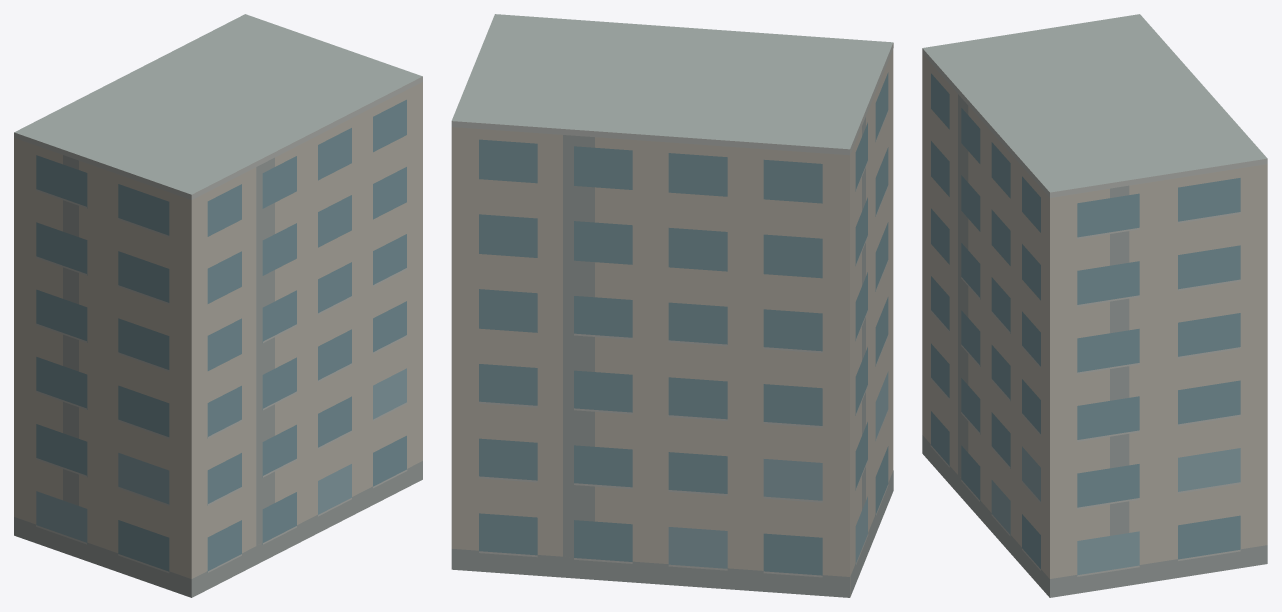
Rendered from survey-upis-32862036.glb.
3 views of the same model, side by side, from view 1: azimuth 30°, elevation 25°; view 2: azimuth 150°, elevation 25°; view 3: azimuth 270°, elevation 25° (orthographic). The views are drawn at different scales.
Parts seen in each view (by area): view 1: survey-upis-32862036.tmp; view 2: survey-upis-32862036.tmp; view 3: survey-upis-32862036.tmp.
Part boxes in pixels (left/top/right/bottom): survey-upis-32862036.tmp: left=14, top=14, right=422, bottom=597; survey-upis-32862036.tmp: left=451, top=14, right=893, bottom=597; survey-upis-32862036.tmp: left=922, top=14, right=1267, bottom=597.
Size of the model in its own units: 17.3 by 18.3 by 14.14.
